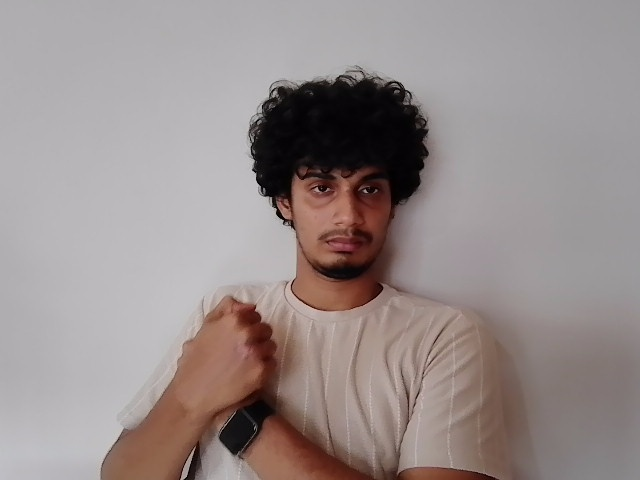love: (174, 301, 276, 417)
